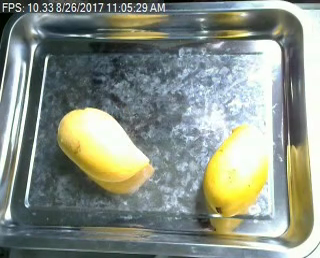Mango: (50, 108, 155, 183), (203, 126, 271, 217)
